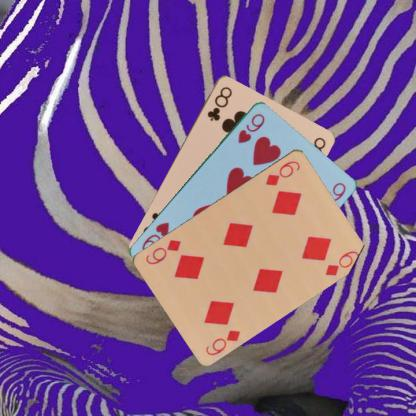6d: (203, 326, 242, 358), (263, 158, 301, 186)
8c: (204, 83, 233, 123)
9h: (235, 110, 266, 145)
